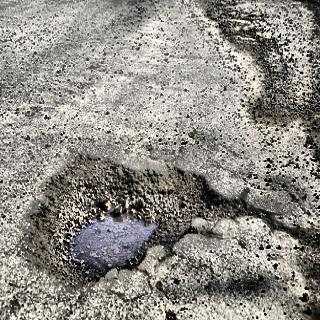pothole: (27, 152, 259, 294)
